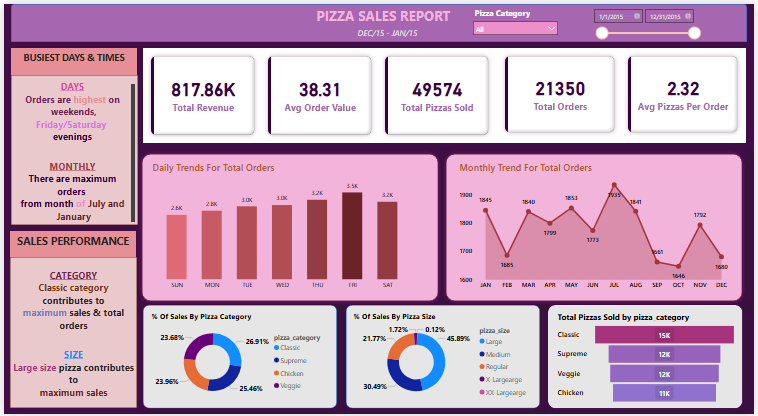

The dashboard page shown, as its layout file describes it:
{"tool":"powerbi","page":{"name":"Home Page","canvas":[1500,820],"ordinal":0},"visuals":[{"type":"cardVisual","fields":{"Data":["pizza_sales.Total Revenue","pizza_sales.Avg Order Value","pizza_sales.Total Pizzas Sold"]},"box":[278,88,708,190],"z":0},{"type":"cardVisual","fields":{"Data":["pizza_sales.Total Orders","pizza_sales.Avg Pizzas Per Order"]},"box":[986,88,498,190],"z":1000},{"type":"shape","box":[14,0,1472,76],"z":2000},{"type":"textbox","box":[620,0,512.9,77.1],"z":3000},{"type":"textbox","box":[701.4,42.9,244.3,68.6],"z":4000},{"type":"shape","box":[268.3,291.7,608.3,310],"z":5000},{"type":"columnChart","title":"Daily Trends For Total Orders","fields":{"Category":["pizza_sales.Order Day"],"Y":["pizza_sales.Total Orders"]},"box":[291.7,313.3,530,266.7],"z":6000},{"type":"shape","box":[876.7,291.7,608.3,310],"z":7000},{"type":"areaChart","title":"Monthly Trend For Total Orders","fields":{"Category":["pizza_sales.Order Month"],"Y":["pizza_sales.Total Orders"]},"box":[905.6,313.3,551.1,266.7],"z":8000},{"type":"shape","box":[277.8,602.2,387.8,206.7],"z":9000},{"type":"shape","box":[683.3,602.2,387.8,206.7],"z":10000},{"type":"shape","box":[1087.8,602.2,388.9,206.7],"z":11000},{"type":"donutChart","title":"% Of Sales By Pizza Category","fields":{"Category":["pizza_sales.pizza_category"],"Y":["pizza_sales.Total Revenue"]},"box":[290,613.3,363.3,184.4],"z":12000},{"type":"donutChart","title":"% Of Sales By Pizza Size","fields":{"Category":["pizza_sales.pizza_size"],"Y":["pizza_sales.Total Revenue"]},"box":[694.4,613.3,363.3,184.4],"z":13000},{"type":"funnel","fields":{"Category":["pizza_sales.pizza_category"],"Y":["pizza_sales.Total Pizzas Sold"]},"box":[1101.1,613.3,367.8,190],"z":14000},{"type":"textbox","box":[14,88,252,54],"z":15000},{"type":"textbox","box":[14,142,254,300],"z":16000},{"type":"textbox","box":[12,454,252,52],"z":17000},{"type":"textbox","box":[16.7,868.9,251.1,241.1],"z":18000},{"type":"textbox","box":[12,506,254,302],"z":19000},{"type":"slicer","fields":{"Values":["pizza_sales.pizza_category"]},"box":[927.8,2.2,190,71.1],"z":20000},{"type":"slicer","fields":{"Values":["pizza_sales.order_date"]},"box":[1167.8,0,234.4,73.3],"z":21000}]}

Visuals, with their boxes in screenshot pixels (x1, y1, x2, y2), scaled from the page's 1500x820 canvas onto the 758x416 screenshot:
cardVisual - pizza_sales.Total Revenue x pizza_sales.Avg Order Value: x1=140, y1=45, x2=498, y2=141
cardVisual - pizza_sales.Total Orders x pizza_sales.Avg Pizzas Per Order: x1=498, y1=45, x2=750, y2=141
shape: x1=7, y1=0, x2=751, y2=39
textbox: x1=313, y1=0, x2=572, y2=39
textbox: x1=354, y1=22, x2=478, y2=57
shape: x1=136, y1=148, x2=443, y2=305
"Daily Trends For Total Orders" columnChart: x1=147, y1=159, x2=415, y2=294
shape: x1=443, y1=148, x2=750, y2=305
"Monthly Trend For Total Orders" areaChart: x1=458, y1=159, x2=736, y2=294
shape: x1=140, y1=306, x2=336, y2=410
shape: x1=345, y1=306, x2=541, y2=410
shape: x1=550, y1=306, x2=746, y2=410
"% Of Sales By Pizza Category" donutChart: x1=147, y1=311, x2=330, y2=405
"% Of Sales By Pizza Size" donutChart: x1=351, y1=311, x2=534, y2=405
funnel - pizza_sales.pizza_category x pizza_sales.Total Pizzas Sold: x1=556, y1=311, x2=742, y2=408
textbox: x1=7, y1=45, x2=134, y2=72
textbox: x1=7, y1=72, x2=135, y2=224
textbox: x1=6, y1=230, x2=133, y2=257
textbox: x1=6, y1=257, x2=134, y2=410
slicer - pizza_sales.pizza_category: x1=469, y1=1, x2=565, y2=37
slicer - pizza_sales.order_date: x1=590, y1=0, x2=709, y2=37
